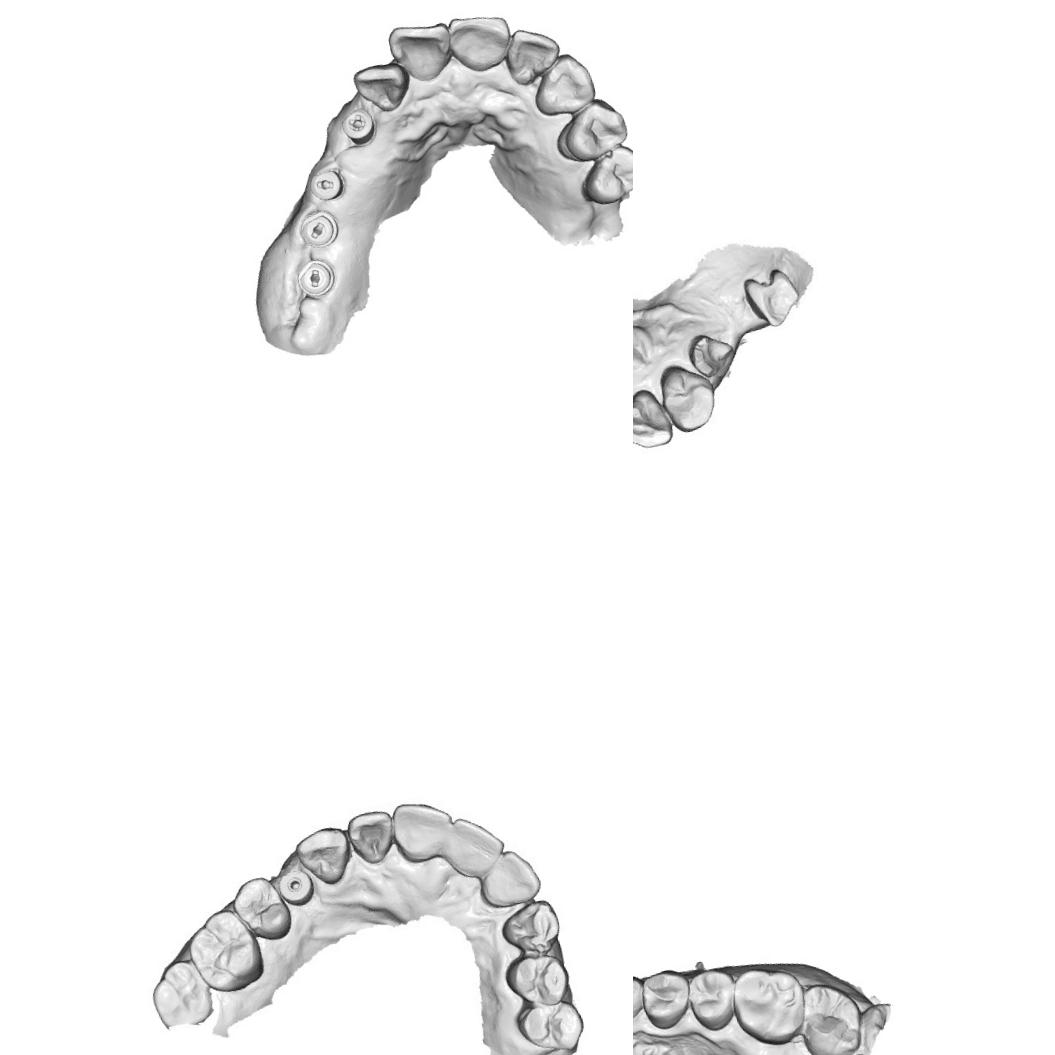canine: (652, 355, 722, 439), (524, 45, 599, 120), (495, 895, 569, 961), (290, 821, 354, 891), (633, 966, 649, 1025)
implant: (278, 866, 318, 906)
implant_minus: (291, 254, 341, 305), (302, 162, 348, 206), (294, 207, 340, 250)
implant_plus: (336, 102, 378, 151)
incisor: (471, 839, 550, 912), (436, 806, 515, 879), (443, 8, 519, 82), (384, 792, 459, 866), (382, 15, 458, 88), (500, 19, 566, 89), (349, 54, 413, 118), (342, 807, 398, 868), (633, 384, 674, 454)
molar: (726, 958, 814, 1052), (180, 902, 267, 996), (140, 954, 216, 1034), (793, 975, 869, 1055)
premolar: (554, 93, 633, 167), (512, 991, 591, 1055), (228, 872, 294, 946), (501, 948, 574, 1012), (681, 962, 744, 1036), (571, 138, 633, 210), (635, 963, 696, 1034)
